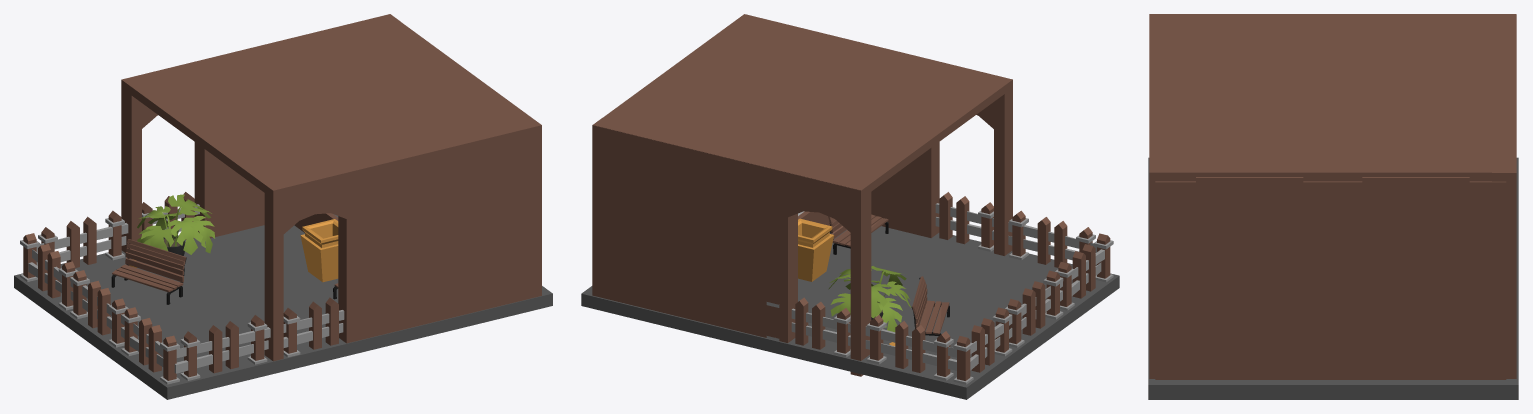
Rendered from escenario 1.fbx.
3 renders of one model, left to right at view 1: azimuth 30°, elevation 25°; view 2: azimuth 150°, elevation 25°; view 3: azimuth 270°, elevation 25°, orthographic. The views are drawn at different scales.
Visible parts, largest first — view 1: Cube.002, Cube, group1204458328, Houseplant_7, group1204458328.001, Node, group1204458328.002, group1117409353, group1117409353.001, group1204458328.003, Cubo, group1204458328.004; view 2: Cube.002, Cube, group1204458328.001, group1204458328, group1117409353.001, group1204458328.002, group1117409353, group1204458328.004, group1204458328.003, Houseplant_7, Cubo, Node (+1 smaller); view 3: Cube.002, Cube.
Boxes of the visible parts, x1,y1,x2,y2 form: Cube.002: [121, 14, 541, 361]; Cube: [14, 225, 552, 399]; group1204458328: [174, 315, 270, 380]; Houseplant_7: [137, 194, 215, 266]; group1204458328.001: [36, 210, 128, 267]; Node: [111, 239, 186, 304]; group1204458328.002: [70, 270, 128, 347]; group1117409353: [121, 307, 179, 384]; group1117409353.001: [20, 233, 78, 310]; group1204458328.003: [283, 297, 344, 357]; Cubo: [300, 219, 338, 282]; group1204458328.004: [142, 192, 199, 239]; Cube.002: [592, 14, 1012, 376]; Cube: [581, 226, 1119, 399]; group1204458328.001: [865, 315, 956, 380]; group1204458328: [1008, 210, 1096, 267]; group1117409353.001: [953, 307, 1012, 384]; group1204458328.002: [1005, 270, 1063, 347]; group1117409353: [1055, 233, 1113, 310]; group1204458328.004: [766, 297, 850, 357]; group1204458328.003: [935, 192, 993, 251]; Houseplant_7: [828, 266, 911, 332]; Cubo: [798, 218, 834, 281]; Node: [911, 276, 949, 336]; Cube.002: [1149, 14, 1516, 379]; Cube: [1148, 157, 1518, 399].
Bounding box in the file's own units: 610 × 282 × 419.
